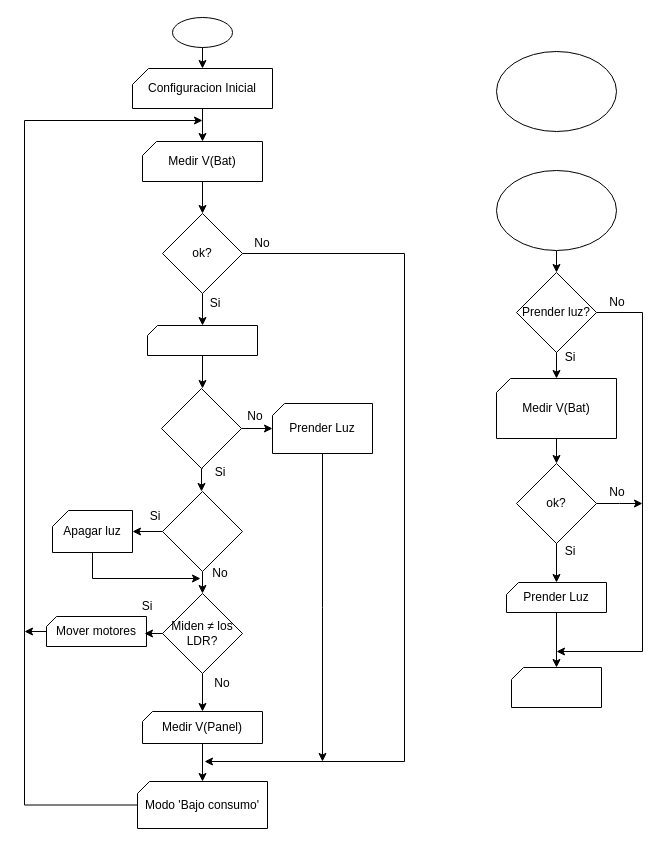
Some shapes in this 668 by 846 pixel diagram are drawn without their labels. The centre of each missing label's shape, as x and y in pixels:
"Apagar luz?" goes at (202,531).
"Enviar datos" goes at (556,687).
"Hay sol?" goes at (201,428).
"Inicio" goes at (202,32).
"Inicio Interru pción Timer" goes at (556,91).
"Inicio Interruppción Bluetooth" goes at (556,210).
"Leer LDR's" goes at (202,340).
